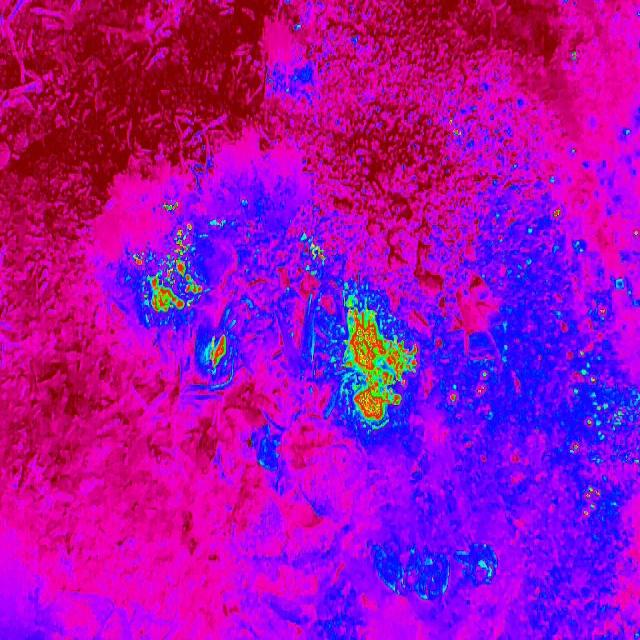fire: (560, 284, 640, 524), (341, 297, 418, 428), (125, 223, 202, 317), (445, 373, 490, 405), (204, 333, 229, 375), (302, 238, 329, 268), (551, 204, 568, 226), (568, 47, 582, 67), (162, 200, 180, 215)
